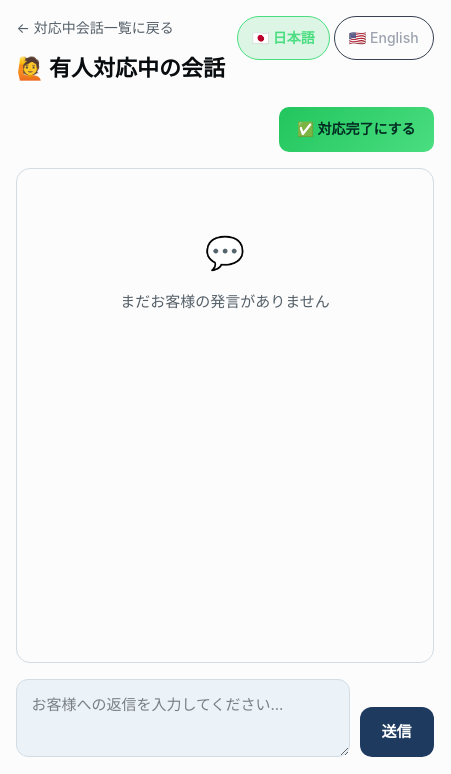
Test: EscalationDetailPage › 返信送信 → 再取得で operator メッセージが表示され、空状態表示が消える
Expected: the text "💬 まだお客様の発言がありません" is shown, [120,232,330,310]
Type "担当します" into the text box with placeholder "お客様への返信を入力してください..." at (183, 718), box [16,678,350,757]
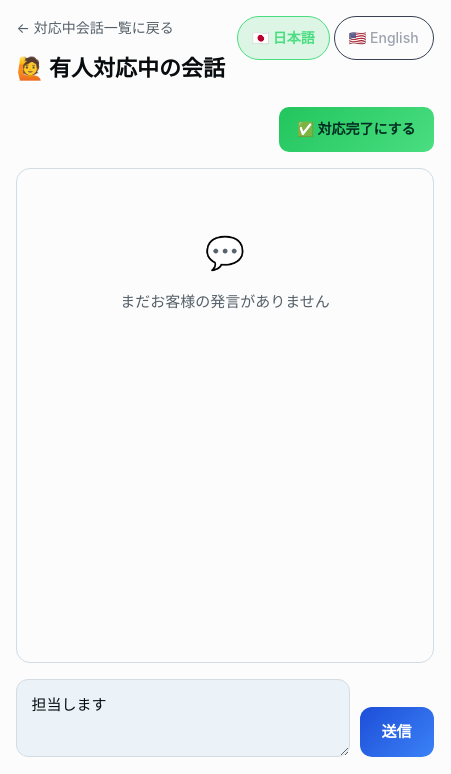
Click the button "送信" at (397, 732), box [360,707,434,757]
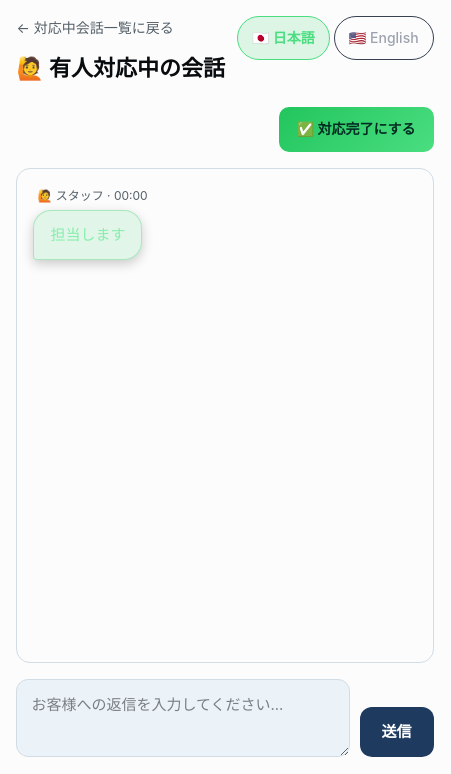
Expected: the text box "担当します" is shown, [16,678,350,757]
Expected: the text "まだお客様の発言がありません" is gone
